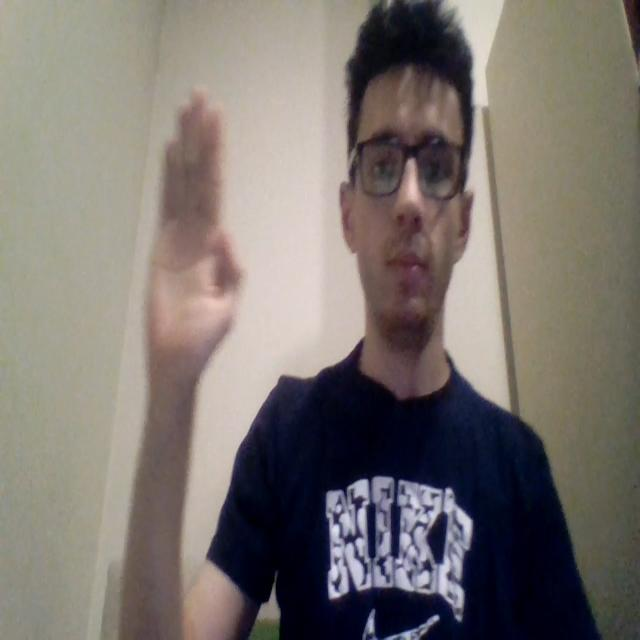hello: (145, 86, 245, 390)
